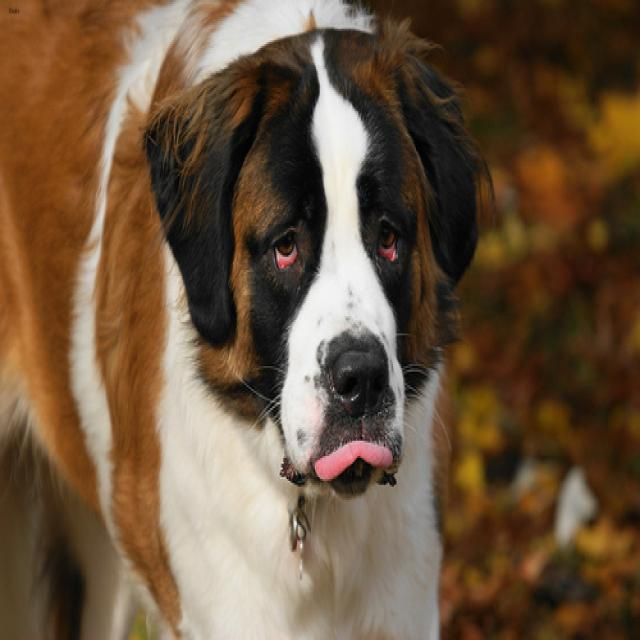dog-saint_bernard: (1, 2, 494, 636)
